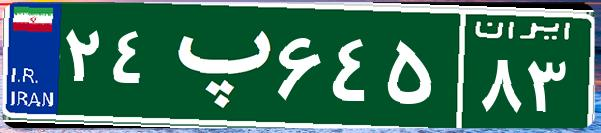2: (57, 26, 110, 107)
3: (525, 38, 570, 115)
4: (330, 28, 385, 110), (110, 28, 158, 105)
5: (385, 28, 445, 110)
6: (273, 28, 330, 110)
8: (475, 38, 525, 113)
پ: (158, 15, 273, 115)
